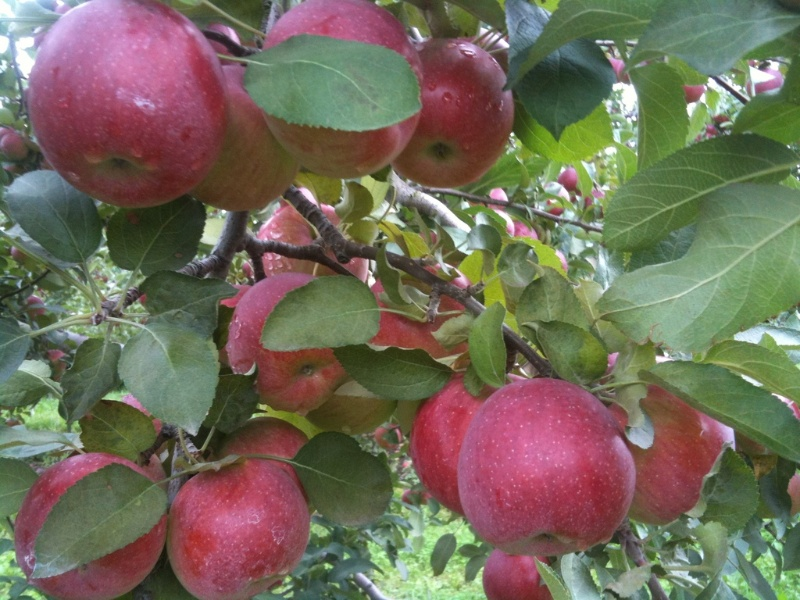apple: (22, 1, 222, 211), (451, 374, 633, 563), (160, 458, 334, 594), (230, 266, 358, 424), (410, 37, 516, 198)
